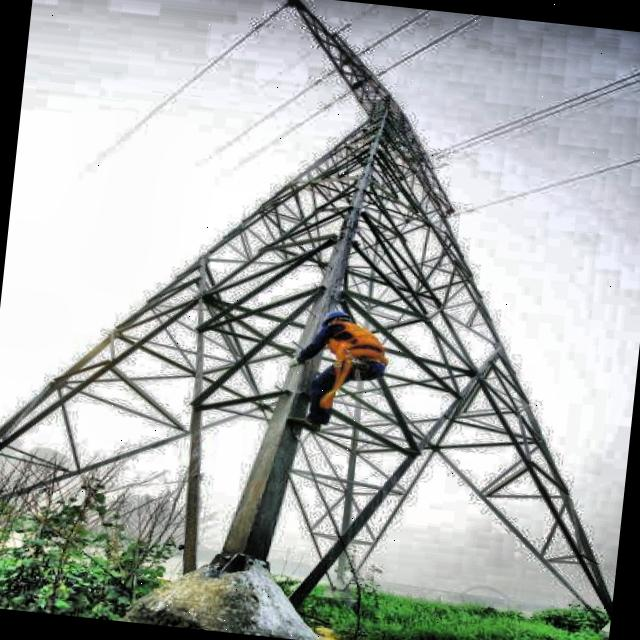helmet: (315, 304, 355, 334)
